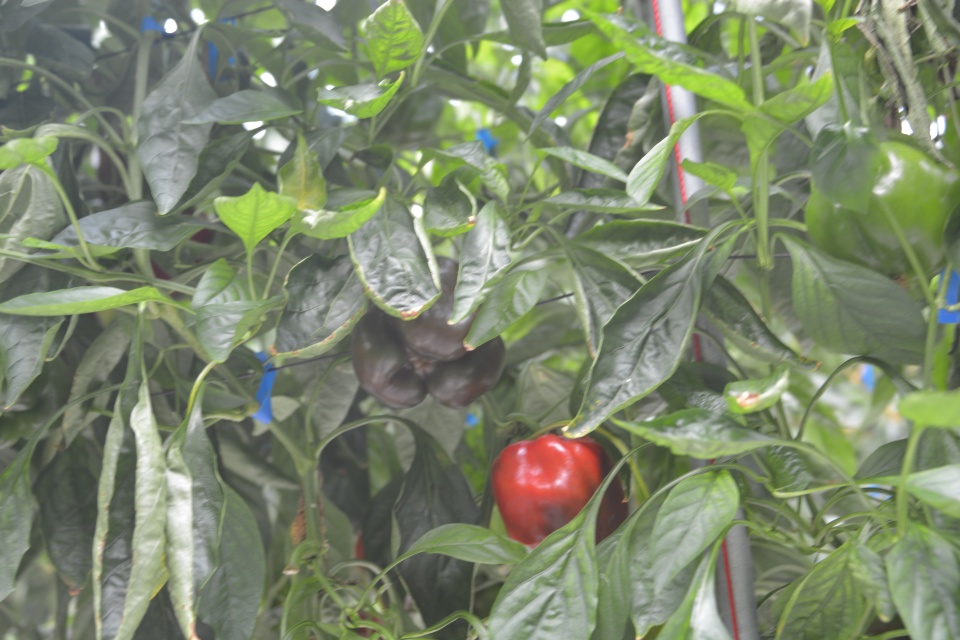fruit: (349, 254, 507, 408), (803, 138, 960, 284), (489, 432, 628, 547)
